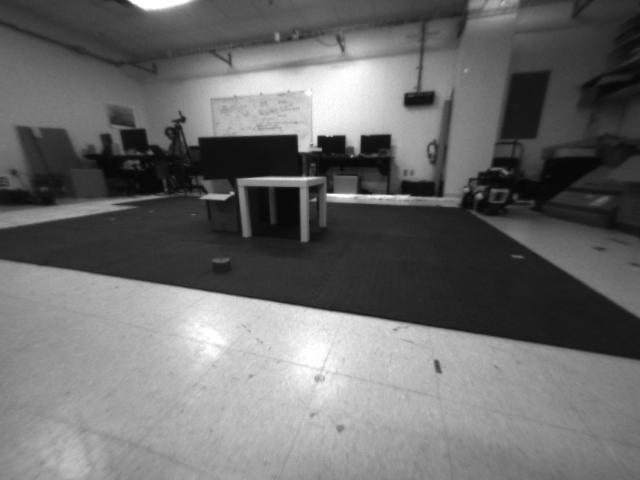dogtoy: (200, 249, 242, 279)
